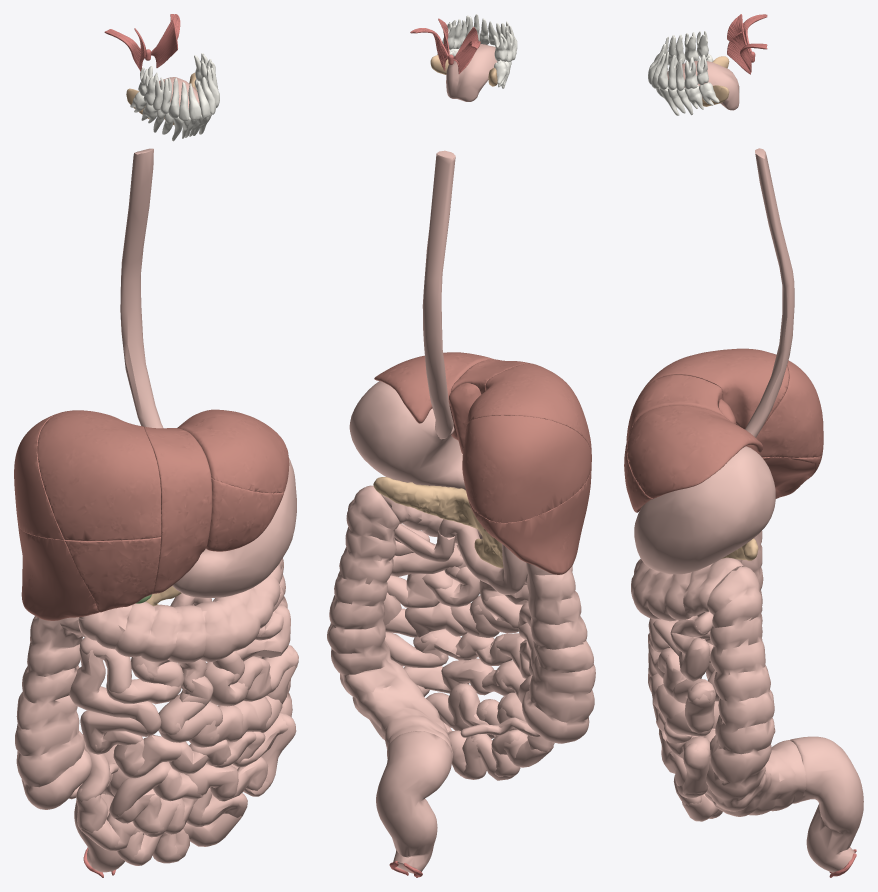
File: digestivo.glb
The picture shows the model from 3 angles, left to right: view 1: azimuth 30°, elevation 25°; view 2: azimuth 150°, elevation 25°; view 3: azimuth 270°, elevation 25°; orthographic projection. The views are drawn at different scales.
Parts seen in each view (by area): view 1: higado-segmento-8__FJ2824, colon-ascendente, colon-transverso, higado-segmento-4, higado-segmento-2, esofago, estomago, higado-segmento-5, higado-segmento-7, higado-segmento-3, higado-segmento-1__FJ1858, yeyuno__FJ2621 (+35 smaller); view 2: colon-descendente, colon-ascendente, higado-segmento-1__FJ1858, estomago, recto, esofago, higado-segmento-8__FJ2824, higado-segmento-7, pancreas, higado-segmento-2, duodeno, higado-segmento-8__FJ2823 (+25 smaller); view 3: colon-descendente, estomago, higado-segmento-2, recto, higado-segmento-8__FJ2824, colon-transverso, esofago, higado-segmento-8__FJ2823, higado-segmento-4, yeyuno__FJ2623, higado-segmento-7, ileon__FJ2575 (+11 smaller).
Part boxes in pixels (<box>): higado-segmento-8__FJ2824: <box>37,410,161,540</box>; colon-ascendente: <box>15,616,91,809</box>; colon-transverso: <box>78,559,282,663</box>; higado-segmento-4: <box>144,426,212,594</box>; higado-segmento-2: <box>177,409,289,493</box>; esofago: <box>120,148,163,428</box>; estomago: <box>172,457,296,597</box>; higado-segmento-5: <box>64,537,161,612</box>; higado-segmento-7: <box>18,524,95,620</box>; higado-segmento-3: <box>206,478,284,551</box>; higado-segmento-1__FJ1858: <box>14,412,64,540</box>; yeyuno__FJ2621: <box>69,643,161,736</box>; colon-descendente: <box>327,485,453,762</box>; colon-ascendente: <box>522,562,595,743</box>; higado-segmento-1__FJ1858: <box>467,415,591,522</box>; estomago: <box>349,381,465,490</box>; recto: <box>376,731,452,873</box>; esofago: <box>422,150,455,439</box>; higado-segmento-8__FJ2824: <box>467,363,591,451</box>; higado-segmento-7: <box>472,468,591,574</box>; pancreas: <box>373,477,503,568</box>; higado-segmento-2: <box>374,352,493,423</box>; duodeno: <box>438,519,527,594</box>; higado-segmento-8__FJ2823: <box>462,421,577,519</box>; colon-descendente: <box>704,566,806,816</box>; estomago: <box>634,446,775,574</box>; higado-segmento-2: <box>627,405,762,498</box>; recto: <box>790,736,863,872</box>; higado-segmento-8__FJ2824: <box>639,348,788,429</box>; colon-transverso: <box>631,557,743,621</box>; esofago: <box>745,148,794,437</box>; higado-segmento-8__FJ2823: <box>756,387,823,457</box>; higado-segmento-4: <box>626,375,724,441</box>; yeyuno__FJ2623: <box>653,619,710,681</box>; higado-segmento-7: <box>762,455,822,497</box>; ileon__FJ2575: <box>682,743,709,798</box>.
Bounding box in the file's own units: 0.244 × 0.7497 × 0.1911.
